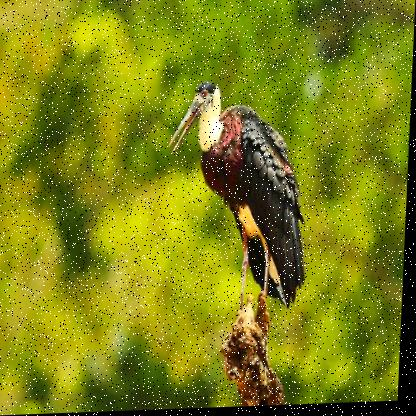Burung: (166, 79, 316, 336)
